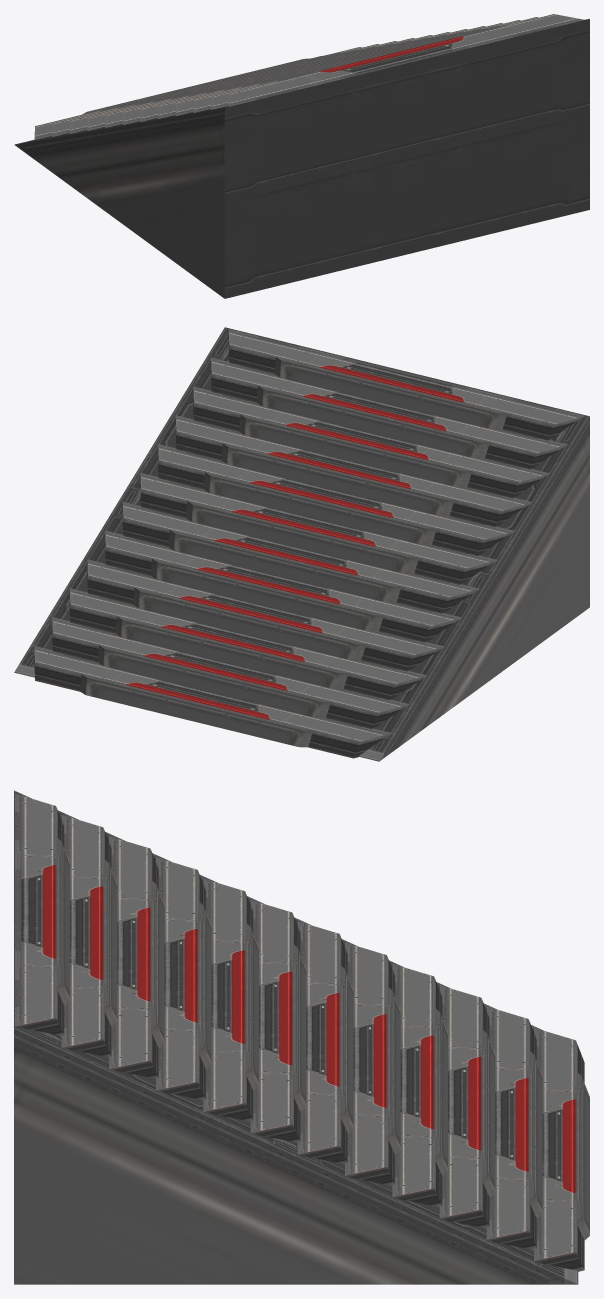
File: sf_stairs_wide.glb
The picture shows the model from 3 angles, top to bottom: view 1: azimuth 30°, elevation 25°; view 2: azimuth 150°, elevation 25°; view 3: azimuth 270°, elevation 25°; orthographic projection. The views are drawn at different scales.
Visible parts, largest first — view 1: Platform_Stairs_4Wide; view 2: Platform_Stairs_4Wide; view 3: Platform_Stairs_4Wide.
Part boxes in pixels (bbox=[...]): Platform_Stairs_4Wide: bbox=[14, 14, 589, 298]; Platform_Stairs_4Wide: bbox=[14, 327, 589, 761]; Platform_Stairs_4Wide: bbox=[14, 790, 589, 1284].
Bounding box in the file's own units: 4 × 2.01 × 4.08.
Materials: 2 (2 with a texture image).
